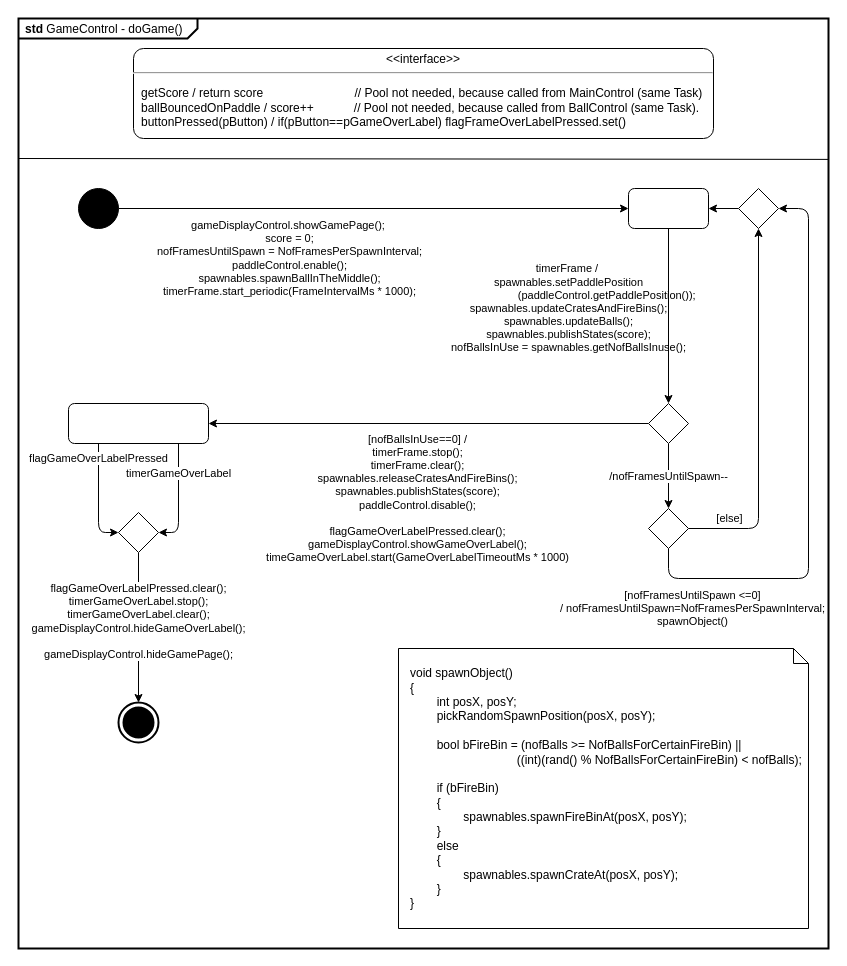
Some shapes in this 847 by 966 pixel diagram are drawn without their labels. Each missing label, with the centre of its shape:
Running: point 668,208
ShowingGameOverLabel: point 138,423
